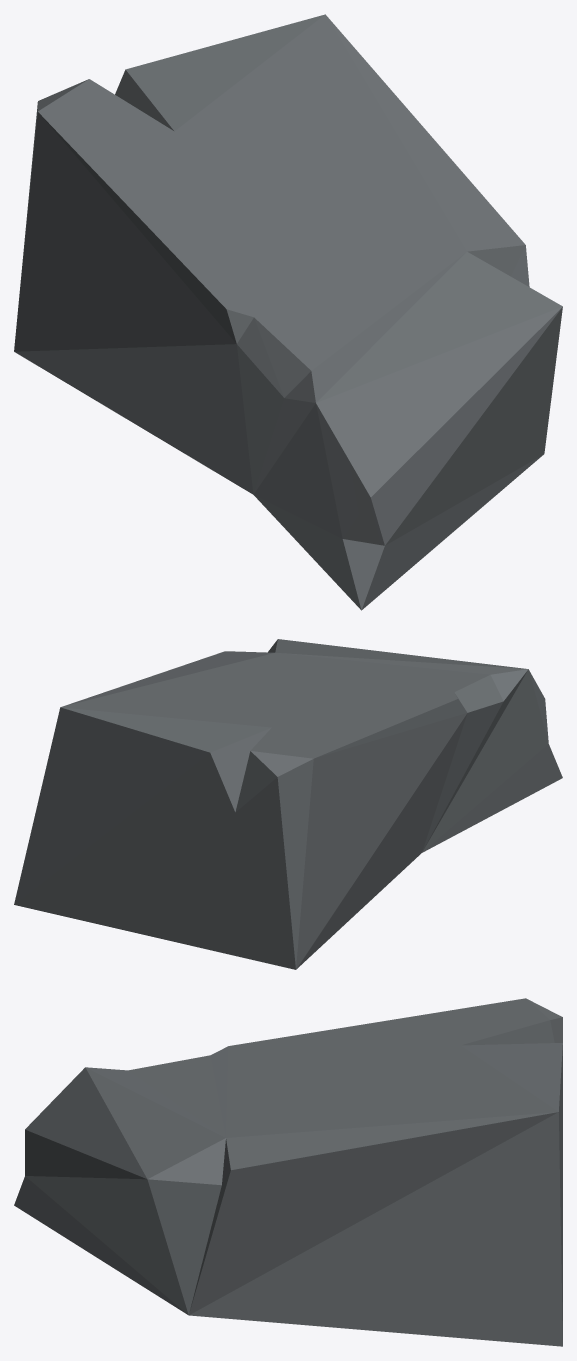
The model's file is rocks01.fbx.
3 renders of one model, top to bottom at view 1: azimuth 30°, elevation 25°; view 2: azimuth 150°, elevation 25°; view 3: azimuth 270°, elevation 25°, orthographic. The views are drawn at different scales.
Parts seen in each view (by area): view 1: rocks01; view 2: rocks01; view 3: rocks01.
Part boxes in pixels (left/top/right/bottom): rocks01: left=14, top=14, right=562, bottom=610; rocks01: left=14, top=639, right=562, bottom=969; rocks01: left=14, top=998, right=562, bottom=1346.
Bounding box in the file's own units: 11.17 × 7.83 × 18.33.
